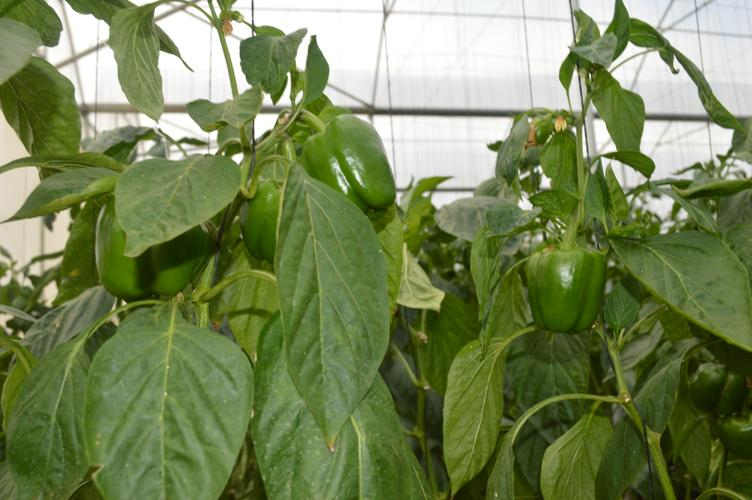BellPepper: (92, 193, 202, 297), (305, 116, 393, 213), (527, 247, 604, 331), (229, 182, 284, 266), (691, 366, 742, 408), (716, 413, 747, 459)
